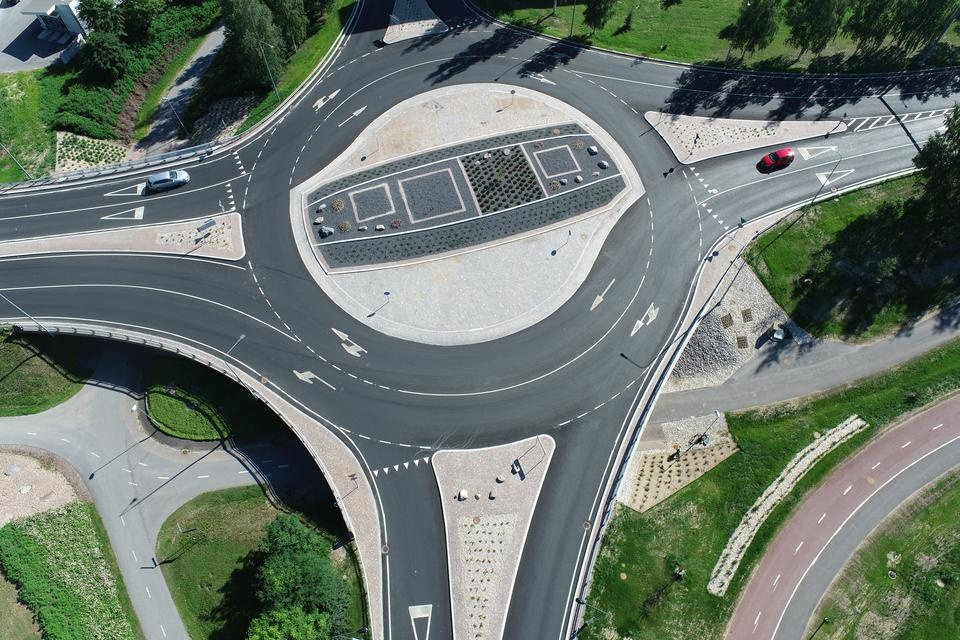roundabout: (192, 0, 749, 545)
